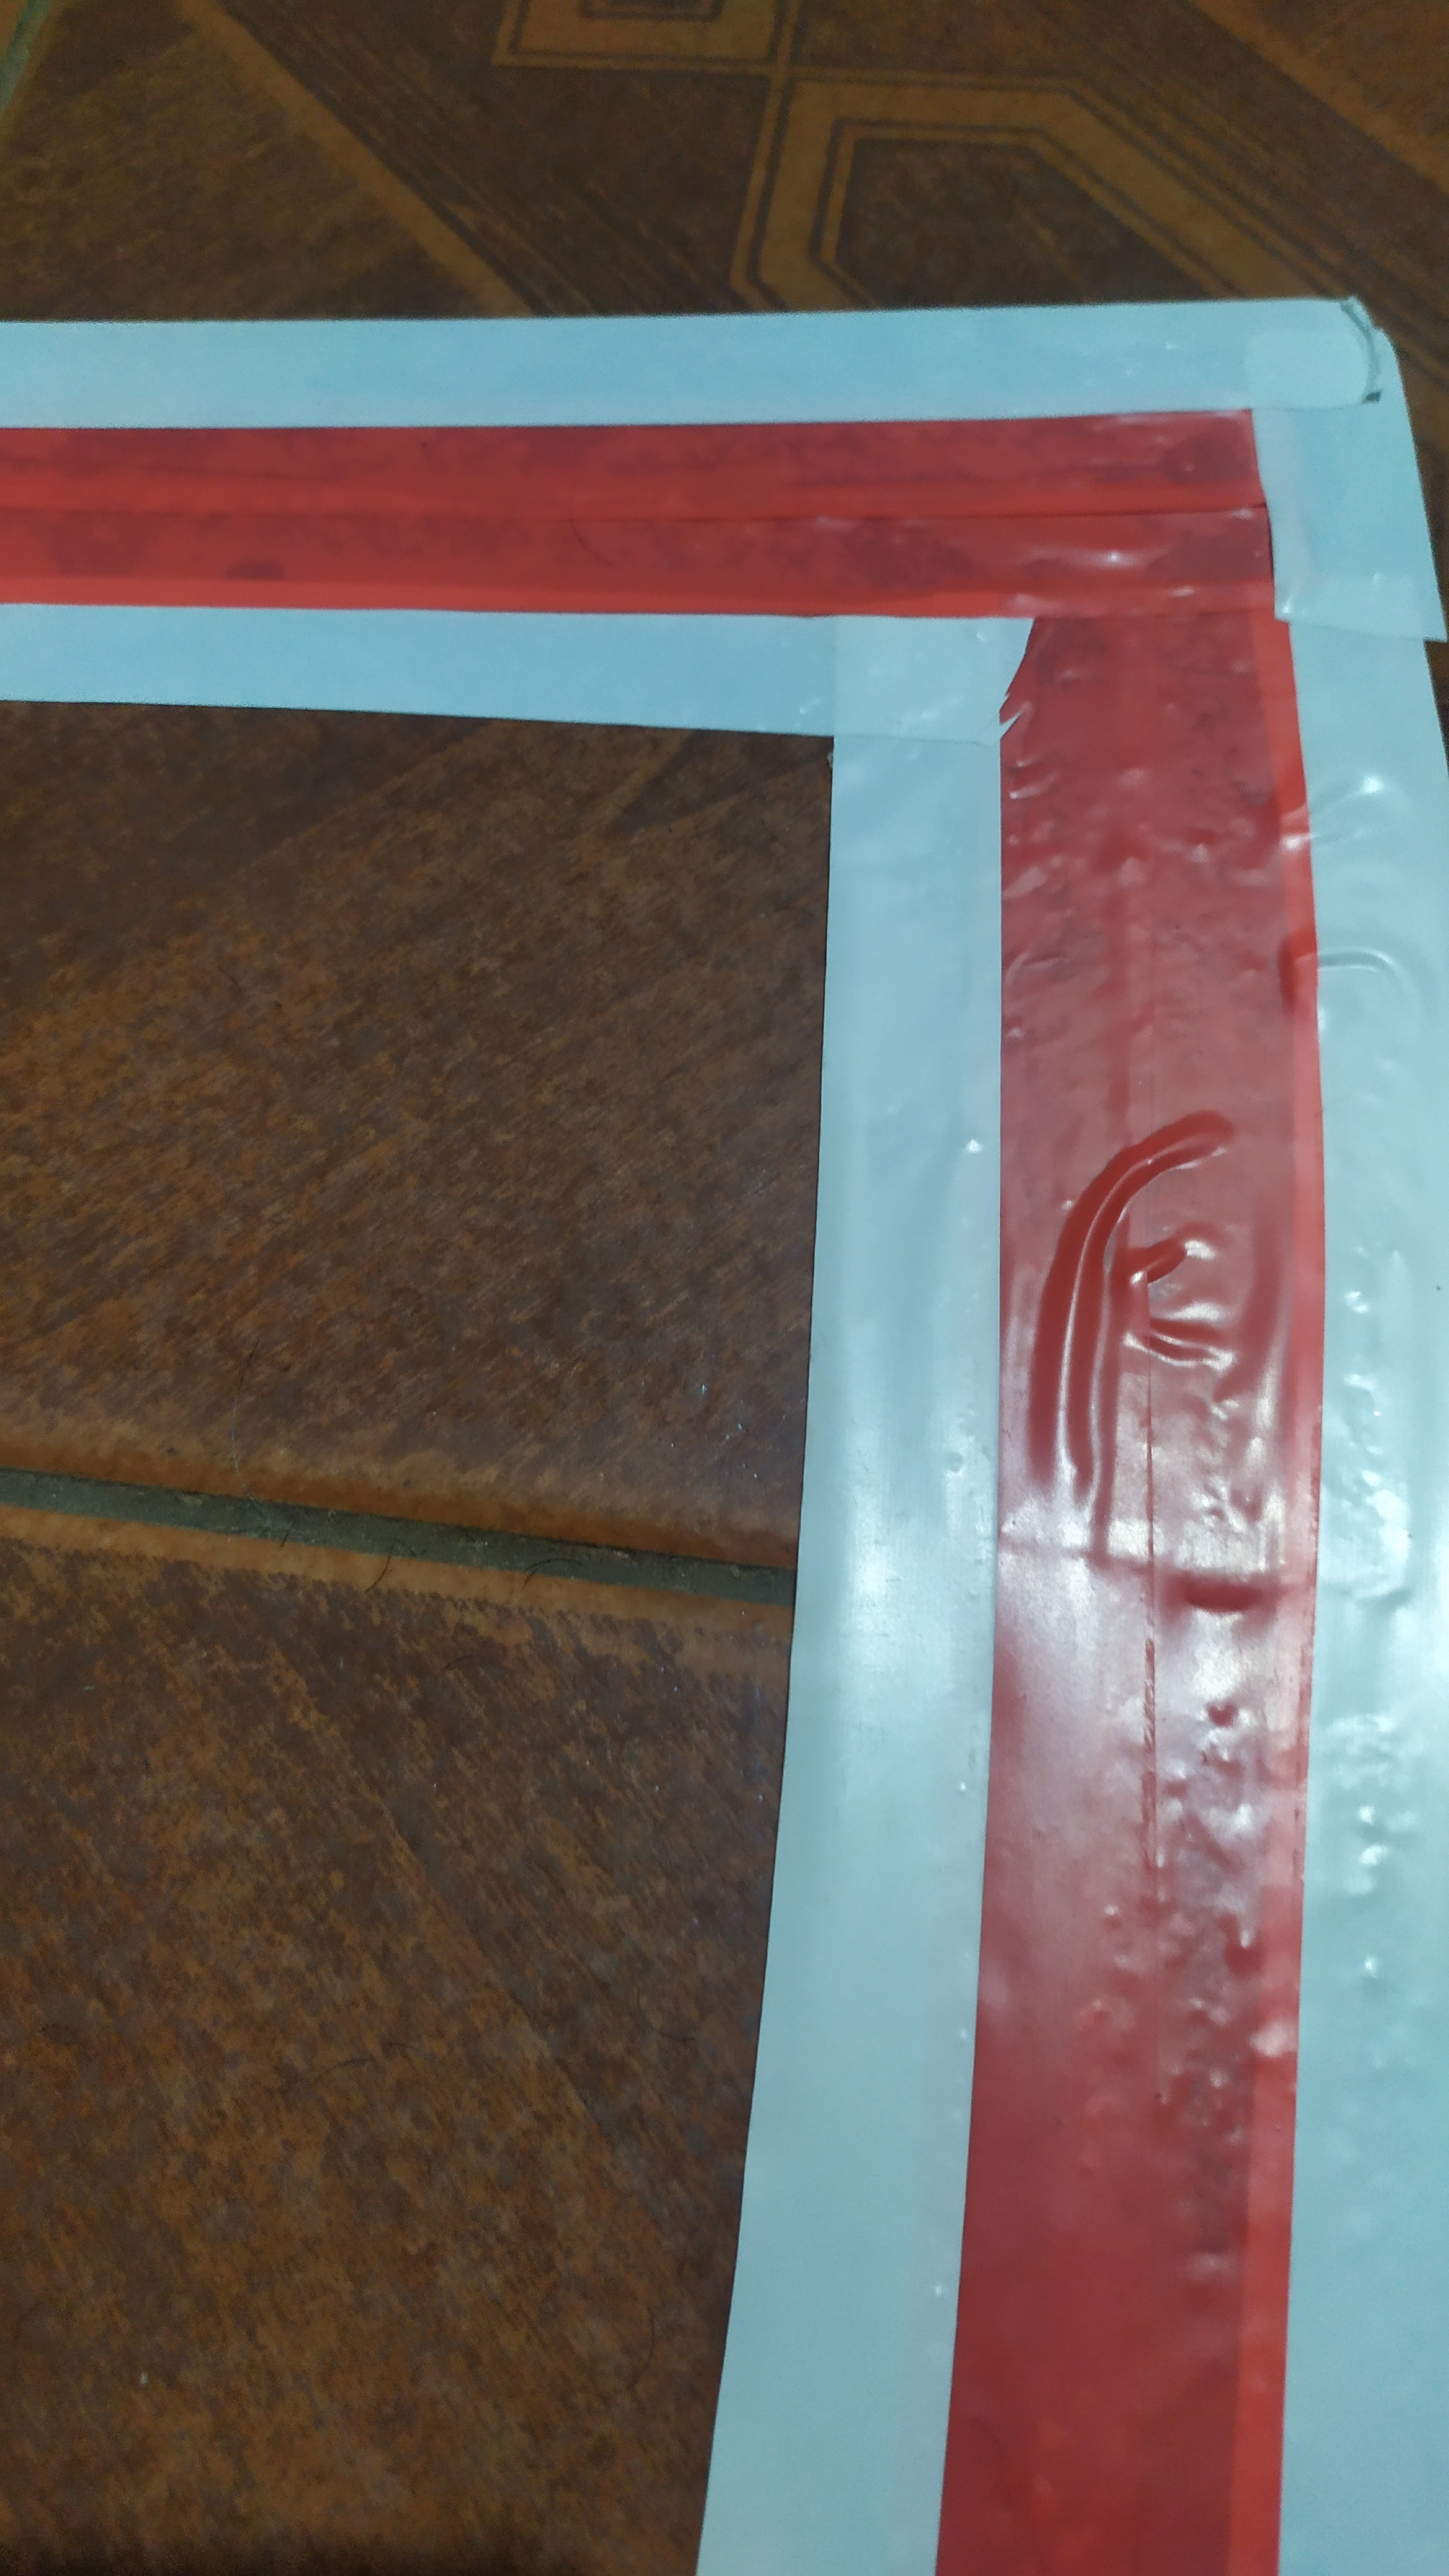faixa_esquerda: (2, 253, 1422, 2576)
